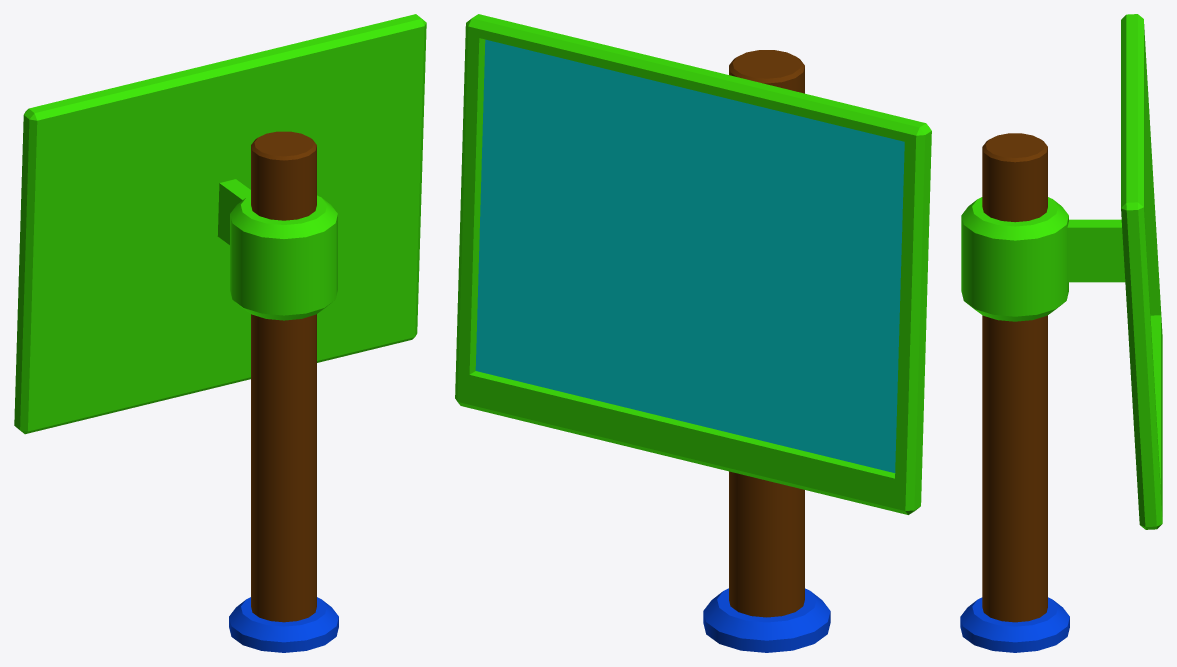
The model's file is Monitor_2.fbx.
3 views of the same model, side by side, from view 1: azimuth 30°, elevation 25°; view 2: azimuth 150°, elevation 25°; view 3: azimuth 270°, elevation 25° (orthographic). The views are drawn at different scales.
Visible parts, largest first — view 1: Monitors_2; view 2: Monitors_2; view 3: Monitors_2.
Boxes of the visible parts, box(x1,y1,x2,y2) form: Monitors_2: box(14, 14, 426, 652); Monitors_2: box(455, 14, 931, 652); Monitors_2: box(960, 14, 1162, 652).
Size of the model in its own units: 0.5988 by 0.7539 by 0.2648.
